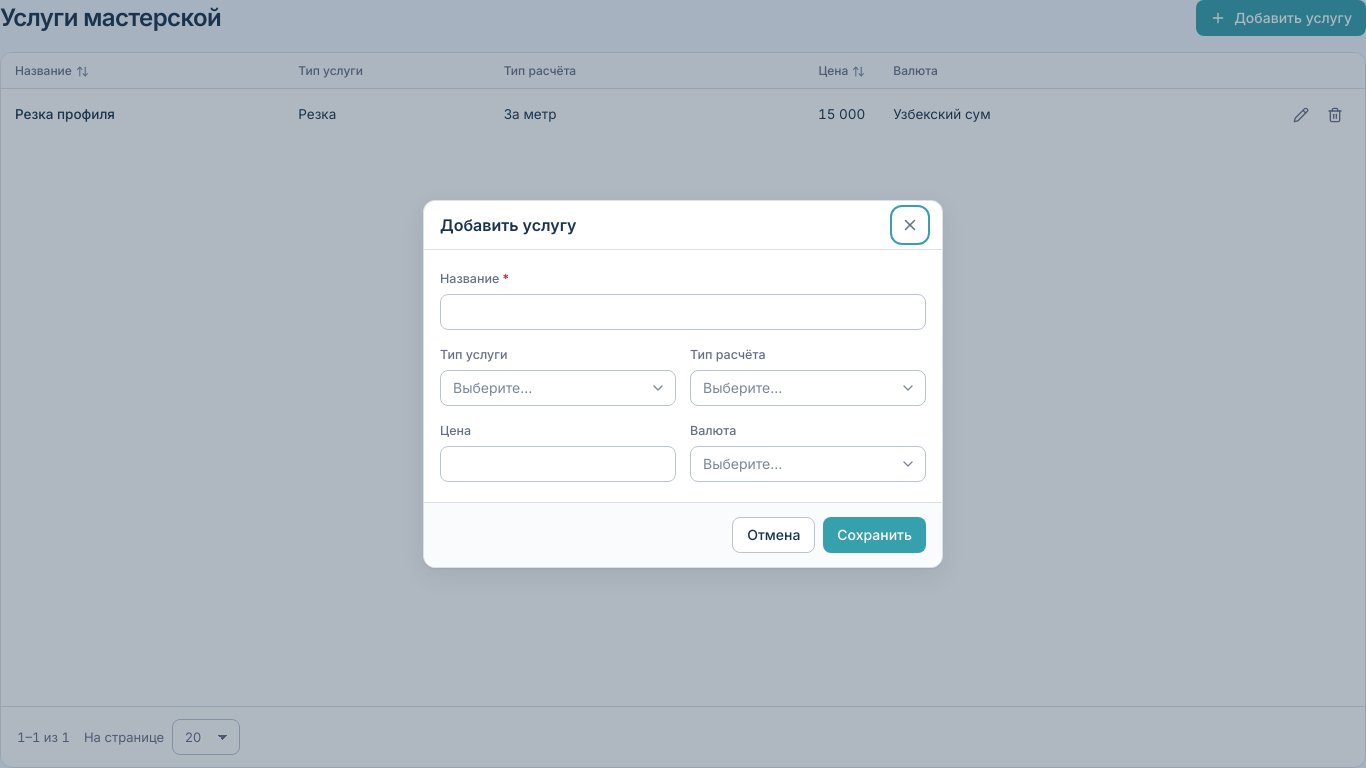
it: Workshop services › requires a name
The width and height of the screenshot is (1366, 768).
Step 1. Click the button "Сохранить" → click(875, 535), box x1=823 y1=517 x2=926 y2=553
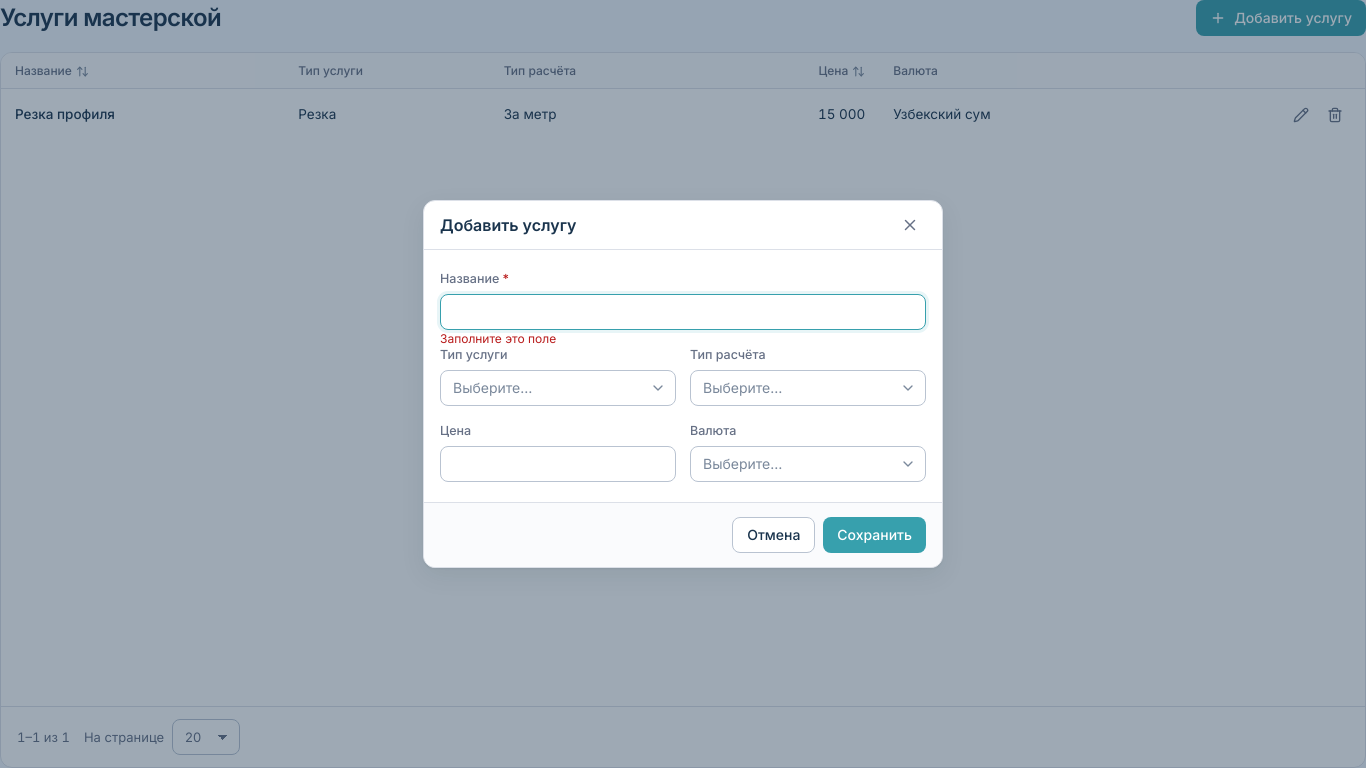
Check: the text "Заполните это поле" is shown, box x1=440 y1=332 x2=556 y2=346
